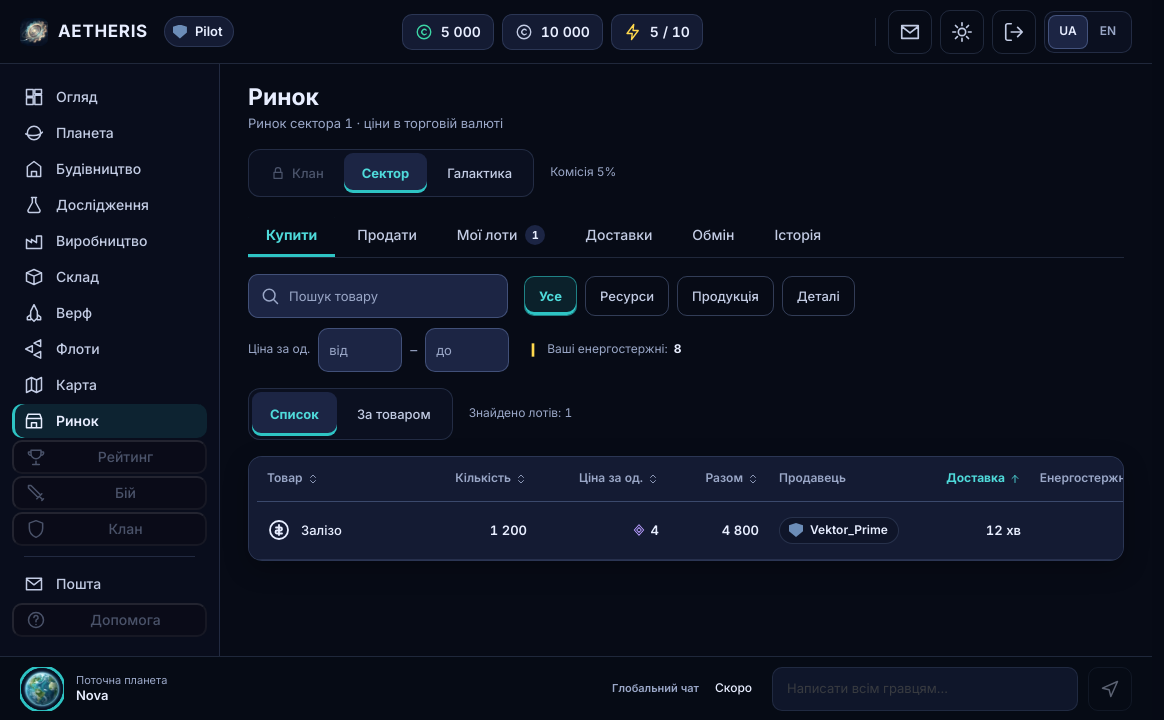
my lots, deliveries, exchange and history › exchanges the credits for the trade currency at the rate of the server
The image size is (1164, 720).
Step 1. Click the tab "Обмін" → point(713, 235), box [674,213,752,257]
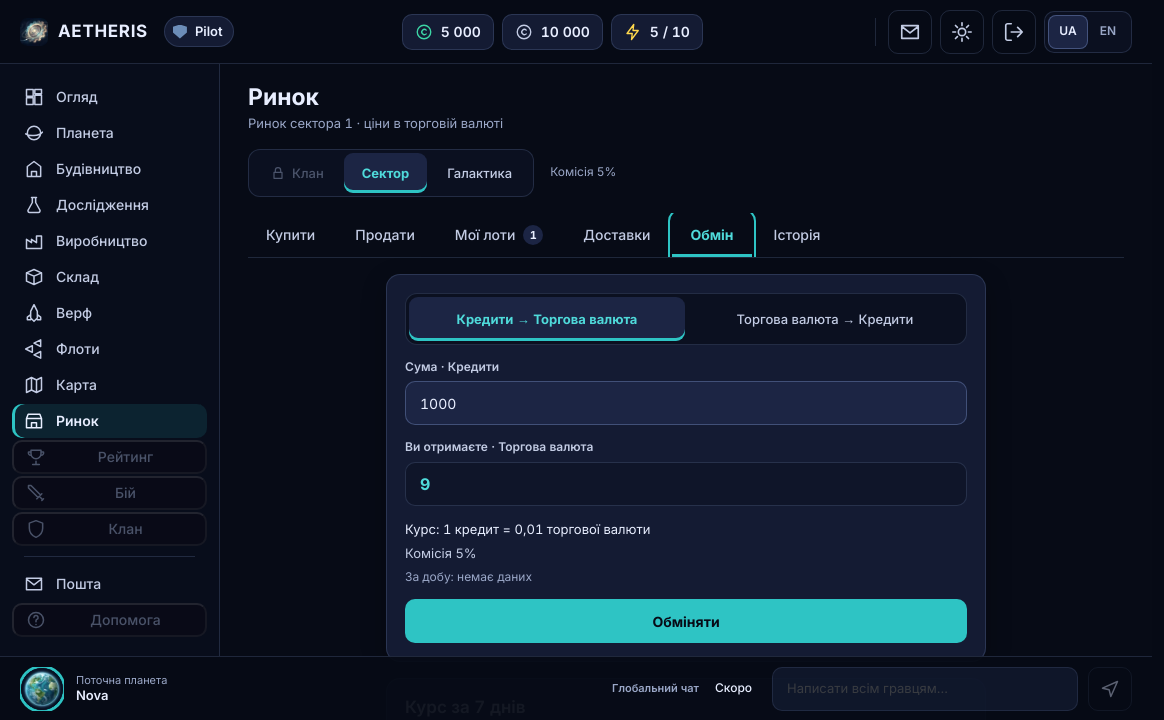
Expected: the text "Комісія 5%" is shown 2 times, [550,164,616,181]; [405,545,477,561]
Expected: the text "Курс: 1 кредит = 0,01 торгової валюти" is shown, [405,521,650,537]
Step 2. Click the button "Обміняти" → point(686, 621), box [405,599,967,643]
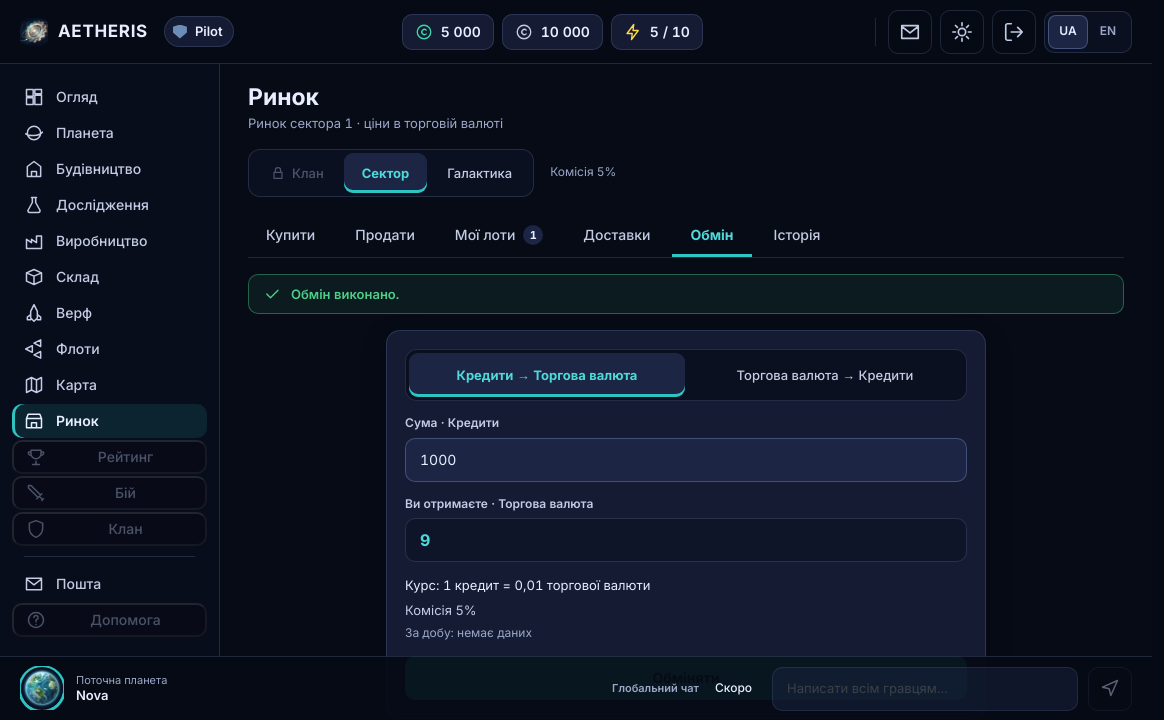
Expected: the text "Обмін виконано." is shown, [291,286,399,302]
